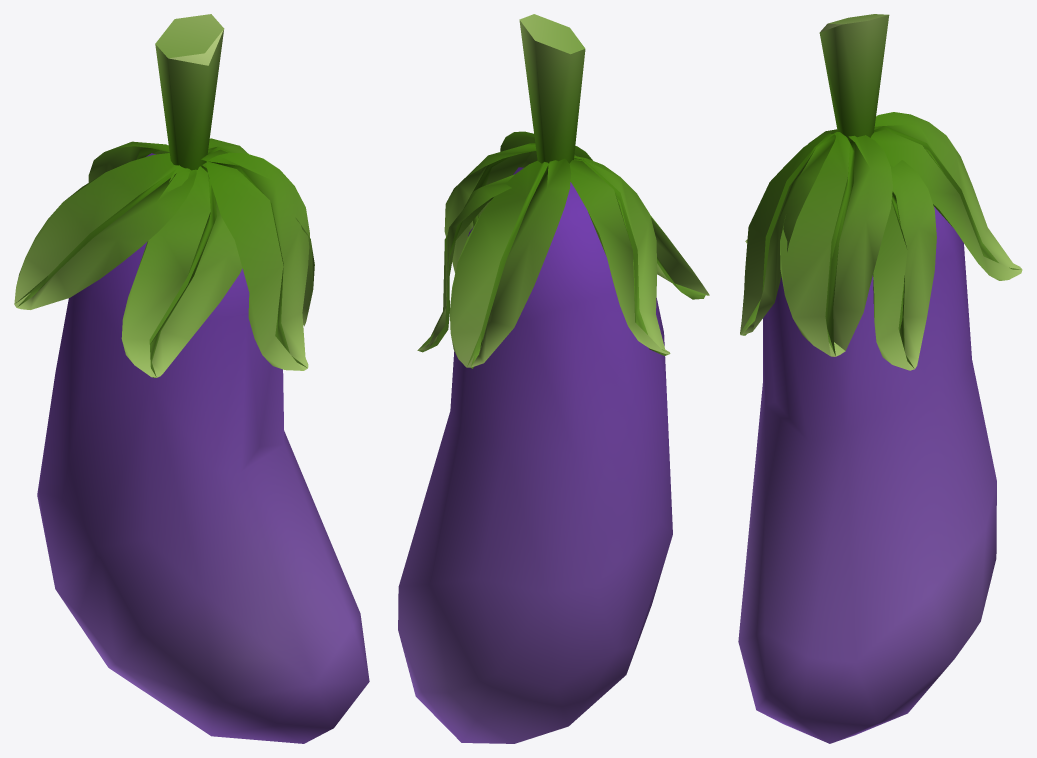
The model's file is eggplant.glb.
The picture shows the model from 3 angles, left to right: view 1: azimuth 30°, elevation 25°; view 2: azimuth 150°, elevation 25°; view 3: azimuth 270°, elevation 25°; orthographic projection. The views are drawn at different scales.
Parts seen in each view (by area): view 1: eggplant; view 2: eggplant; view 3: eggplant.
Part boxes in pixels (x1,y1,x2,y2): eggplant: (14,14,369,743); eggplant: (398,14,709,743); eggplant: (738,14,1022,743).
Size of the model in its own units: 0.2609 by 0.6153 by 0.2287.
1 material, 1 textured.
